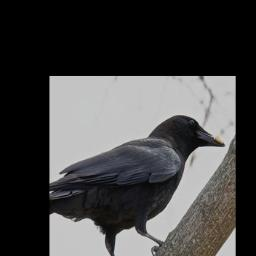Crow: (50, 114, 226, 256)
